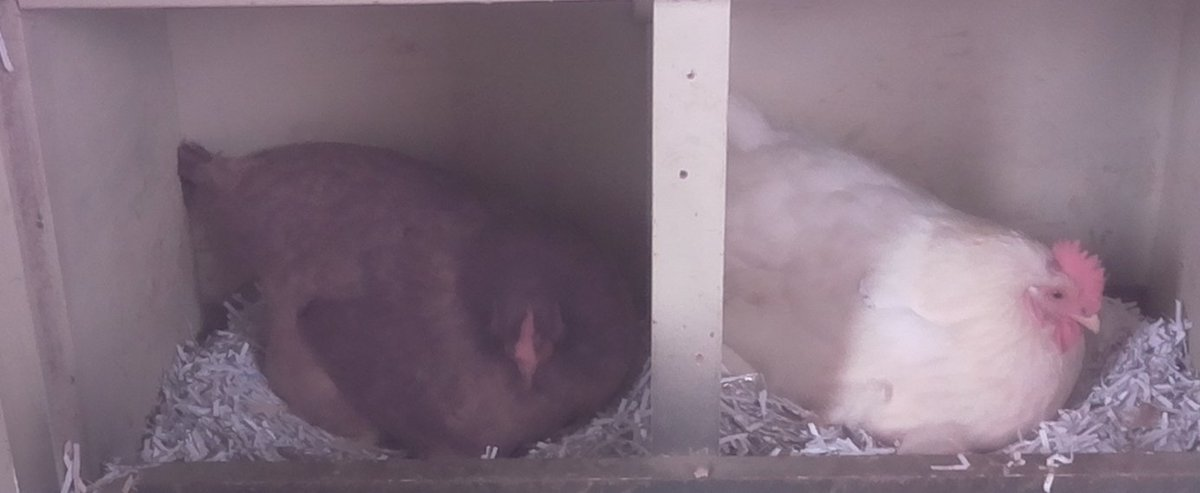hen: (173, 136, 647, 454), (730, 81, 1110, 453)
